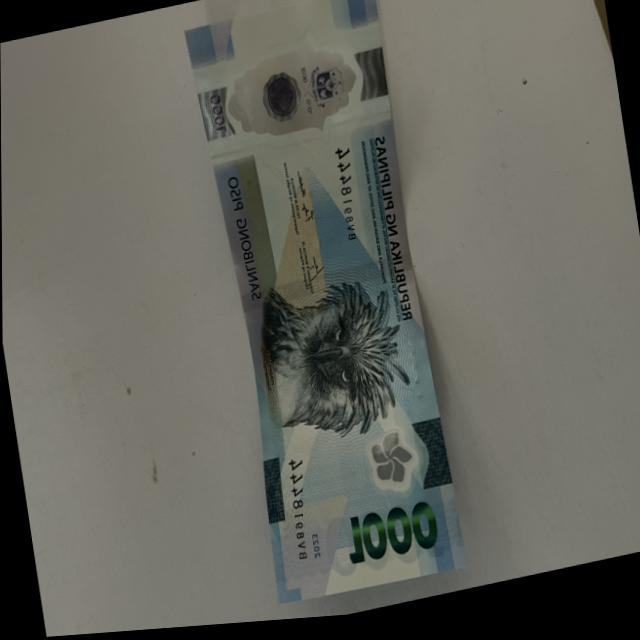clear_window: (219, 37, 368, 156)
eagle: (256, 274, 408, 460)
sampaguita: (359, 432, 420, 501)
security_thread: (237, 261, 413, 314)
serial_number: (323, 131, 370, 261), (275, 447, 321, 573)
value: (328, 493, 449, 589)
